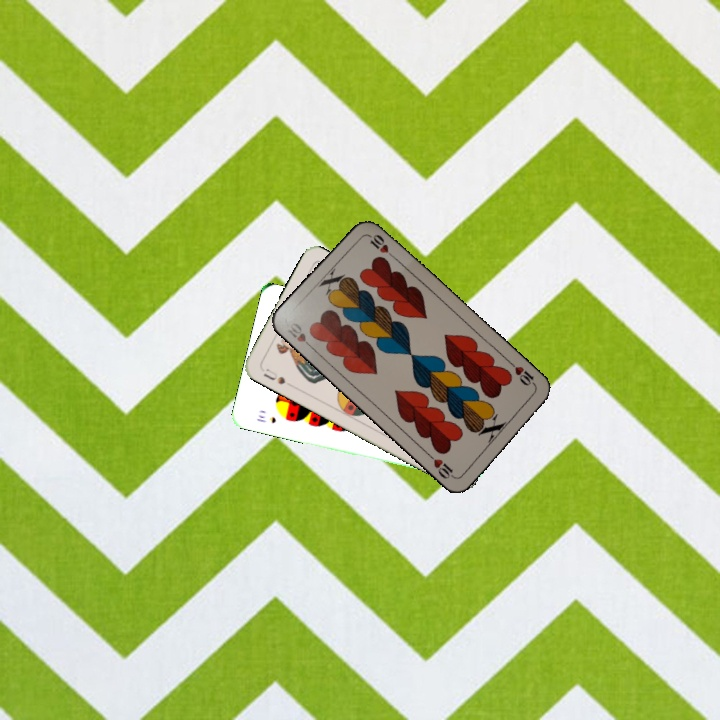H10: (283, 318, 317, 352), (506, 358, 539, 389)
S10: (253, 411, 279, 426)
SU: (259, 364, 295, 389)
